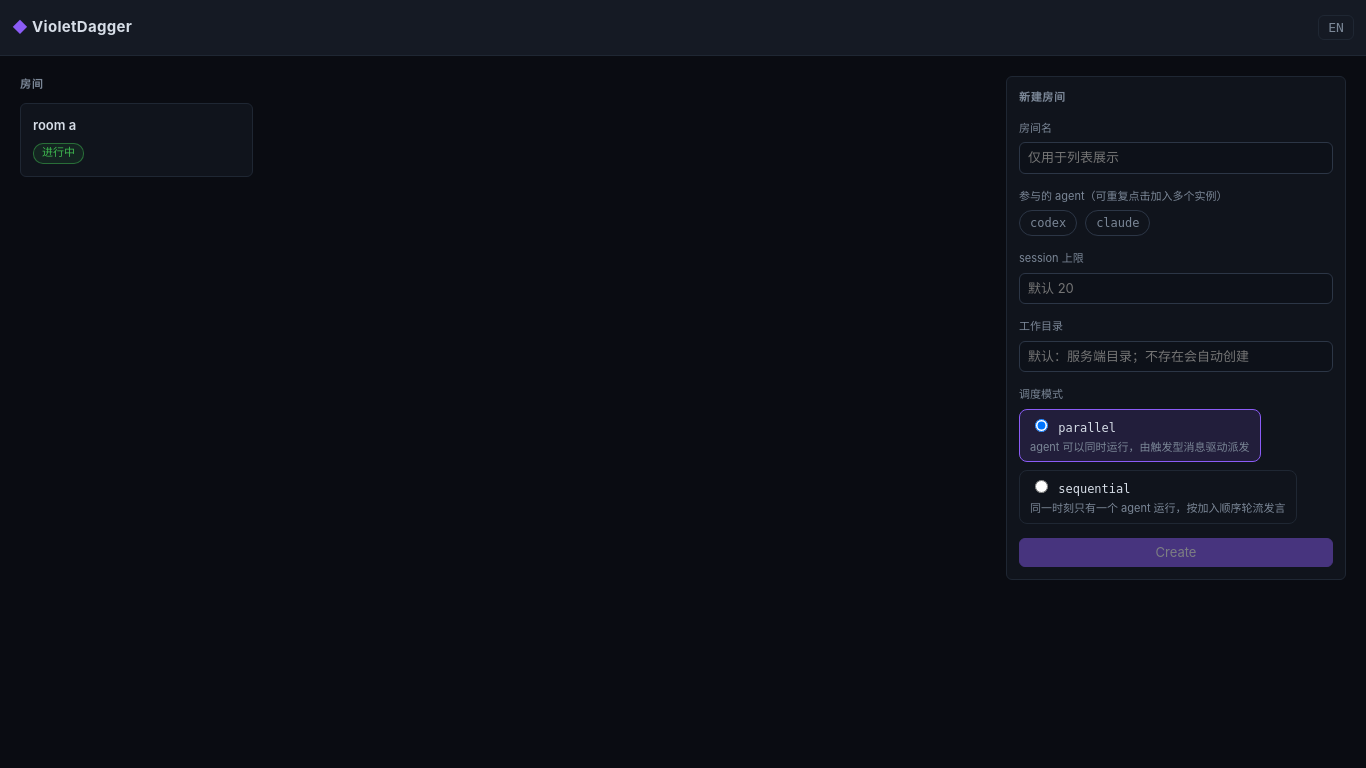
Test: RoomListPage › shows an error message when createRoom fails
Expected: the button with aria-label "add codex" is shown, [1019,210,1077,236]
Type "new room" into the field named "room name". click: (1176, 158)
box: [1019,142,1333,174]
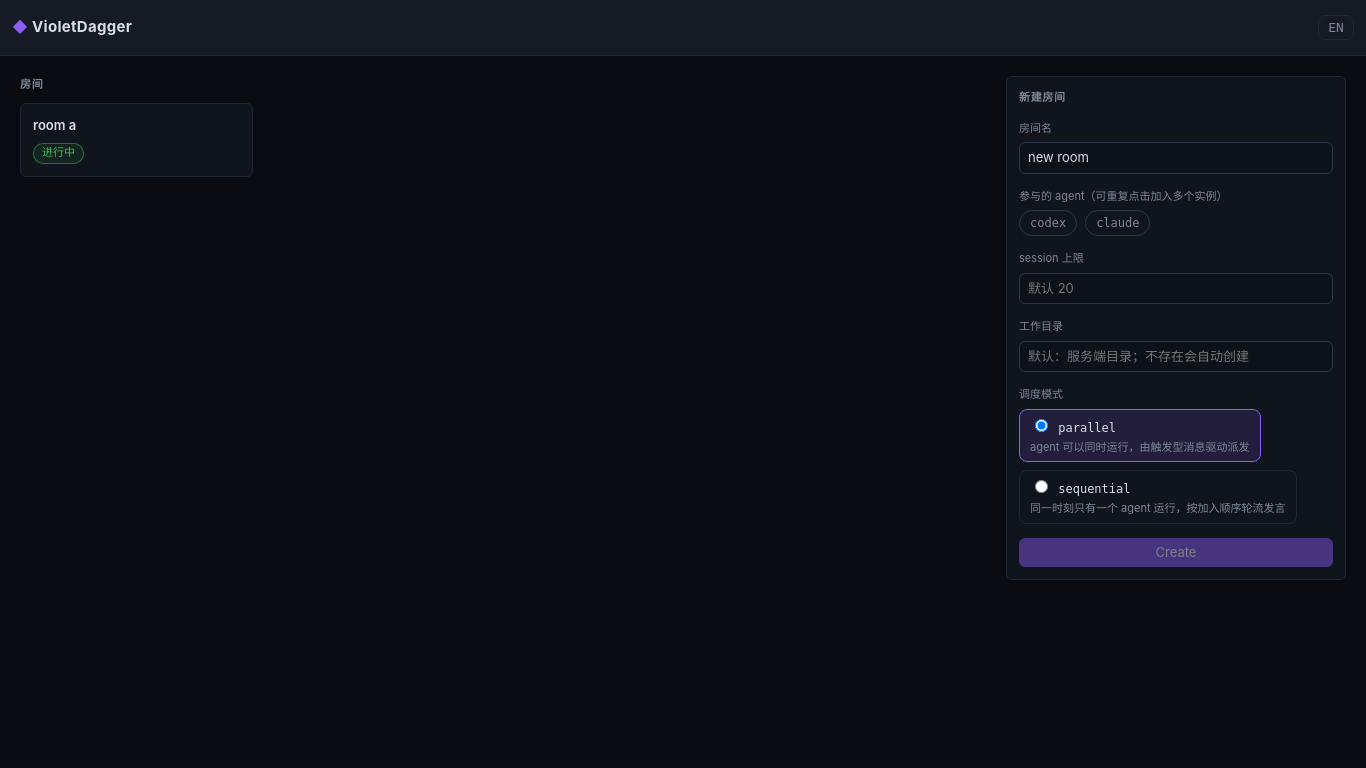
Click the button with aria-label "add codex". click: (1048, 223)
box: [1019,210,1077,236]
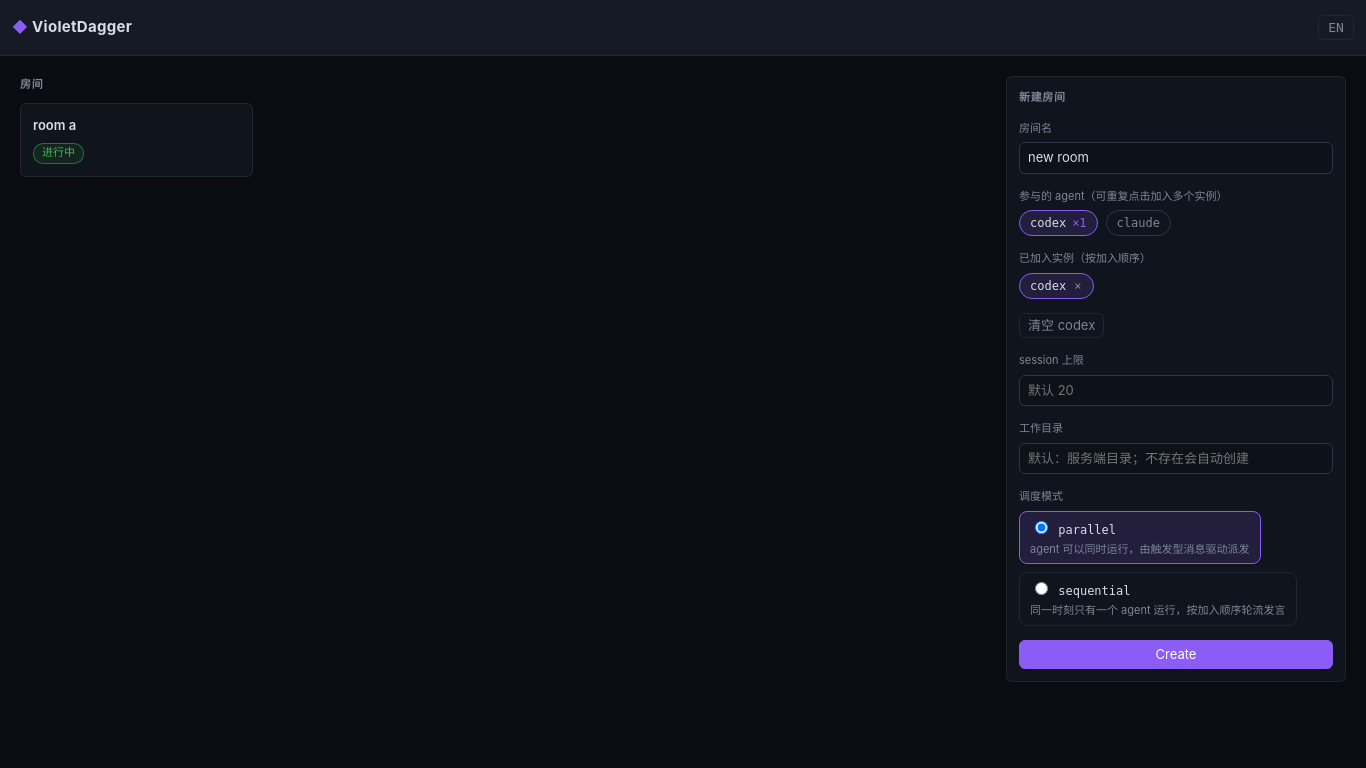
Click the button "Create". click: (1176, 654)
box: [1019,640,1333,669]
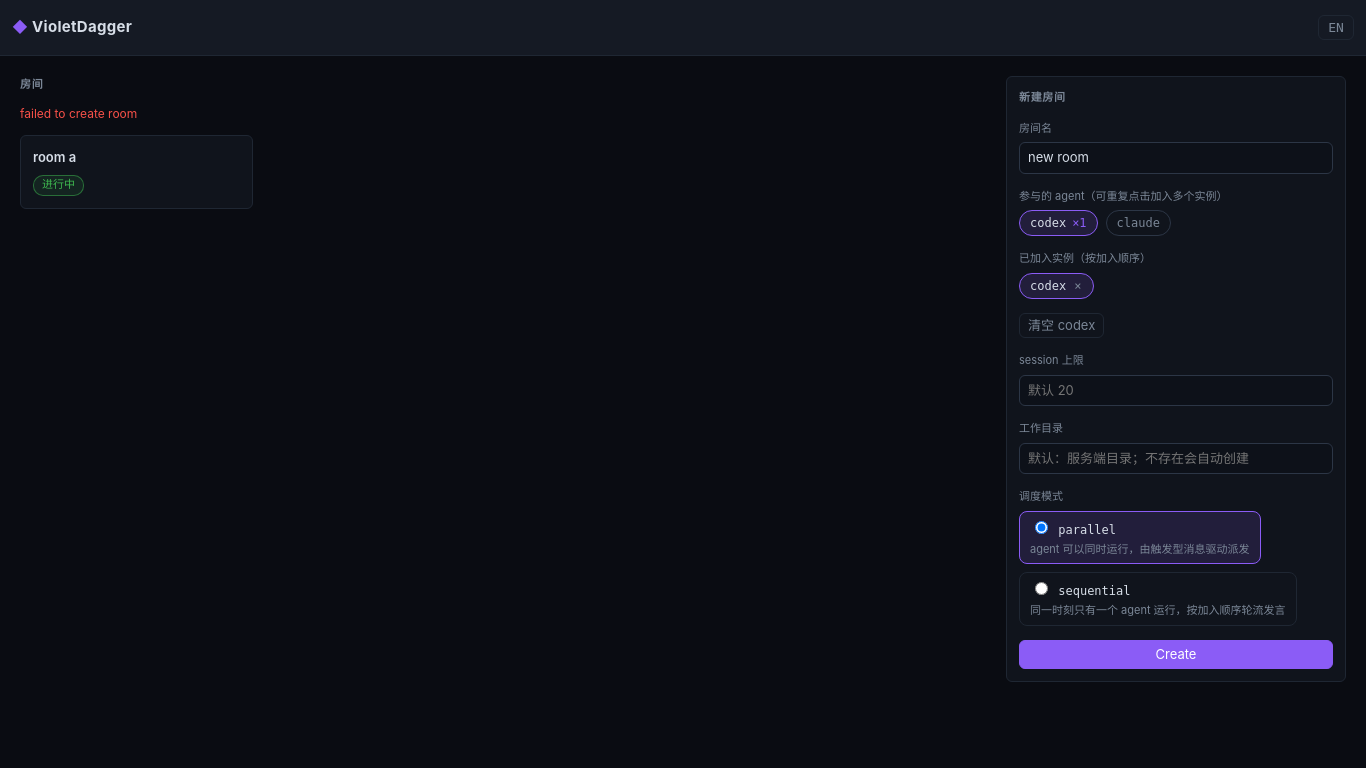
Expected: the message reads "failed to create room", [20,106,137,120]
